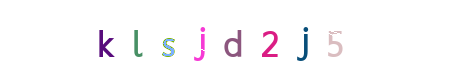2: (204, 0, 284, 80)
5: (264, 0, 344, 80)
D: (190, 0, 270, 80)
J: (169, 0, 249, 80), (235, 0, 315, 80)
K: (64, 0, 144, 80)
L: (123, 0, 203, 80)
S: (142, 0, 222, 80)
